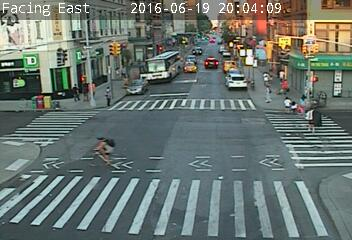neg: (83, 129, 116, 173), (207, 27, 222, 48), (303, 43, 318, 63), (216, 59, 228, 76), (195, 45, 207, 61), (292, 74, 303, 90), (189, 29, 199, 42), (138, 45, 144, 53)
pos: (258, 83, 276, 106), (103, 84, 119, 106), (67, 82, 83, 103), (278, 95, 293, 117)
